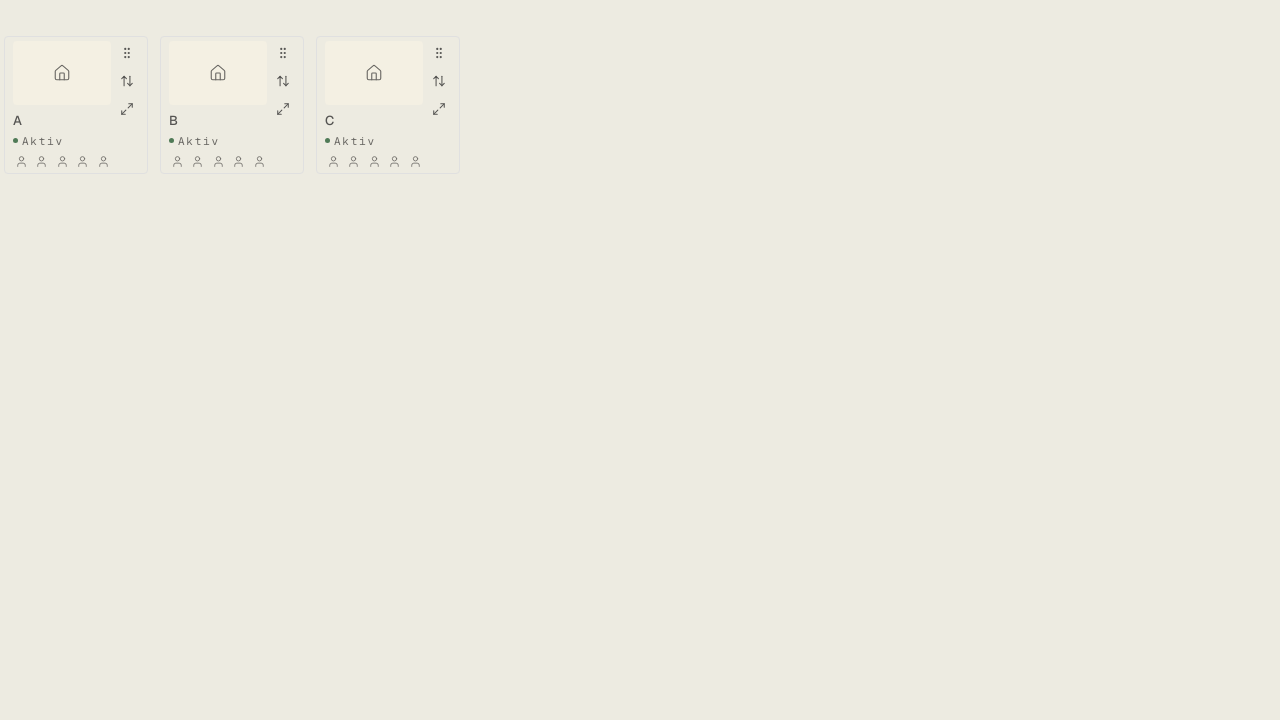
ListingMatrix › keeps the last saved order when a later position save fails
The width and height of the screenshot is (1280, 720).
Click the button named "Position von A ändern": (127, 81) 115,69 -> 139,93
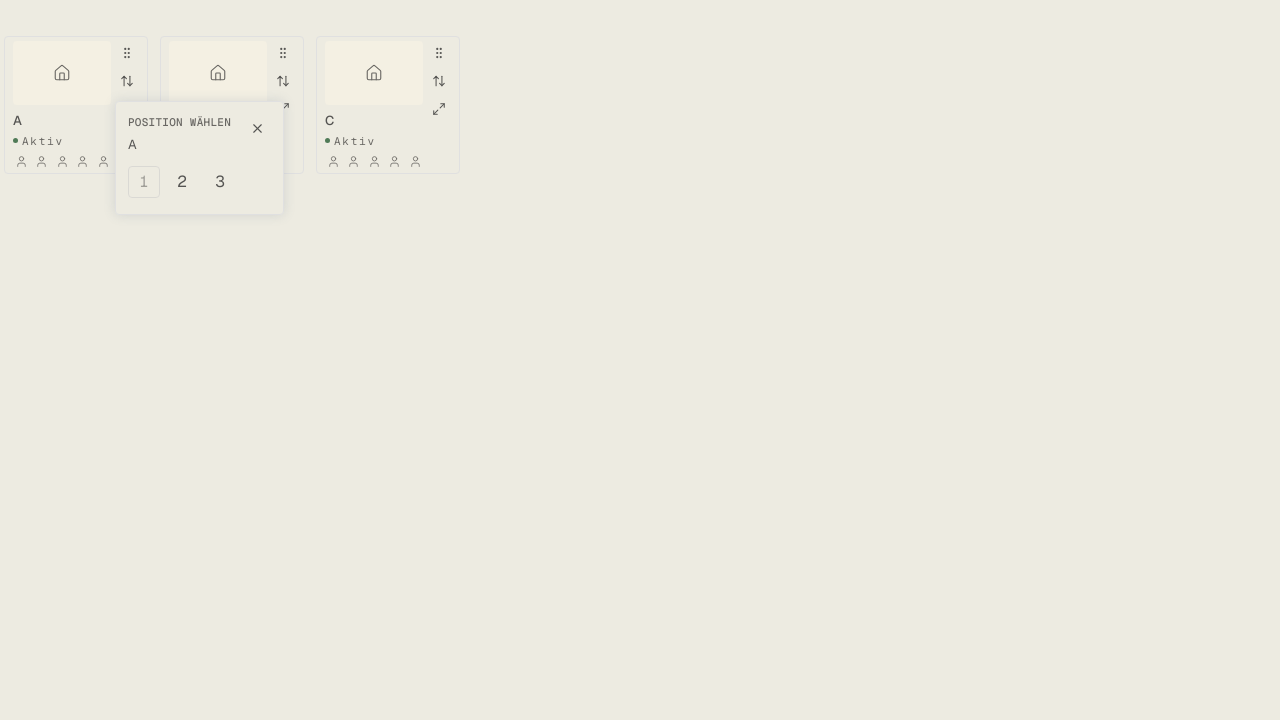
Click the button named "Auf Position 3 verschieben": (220, 182) 204,166 -> 236,198
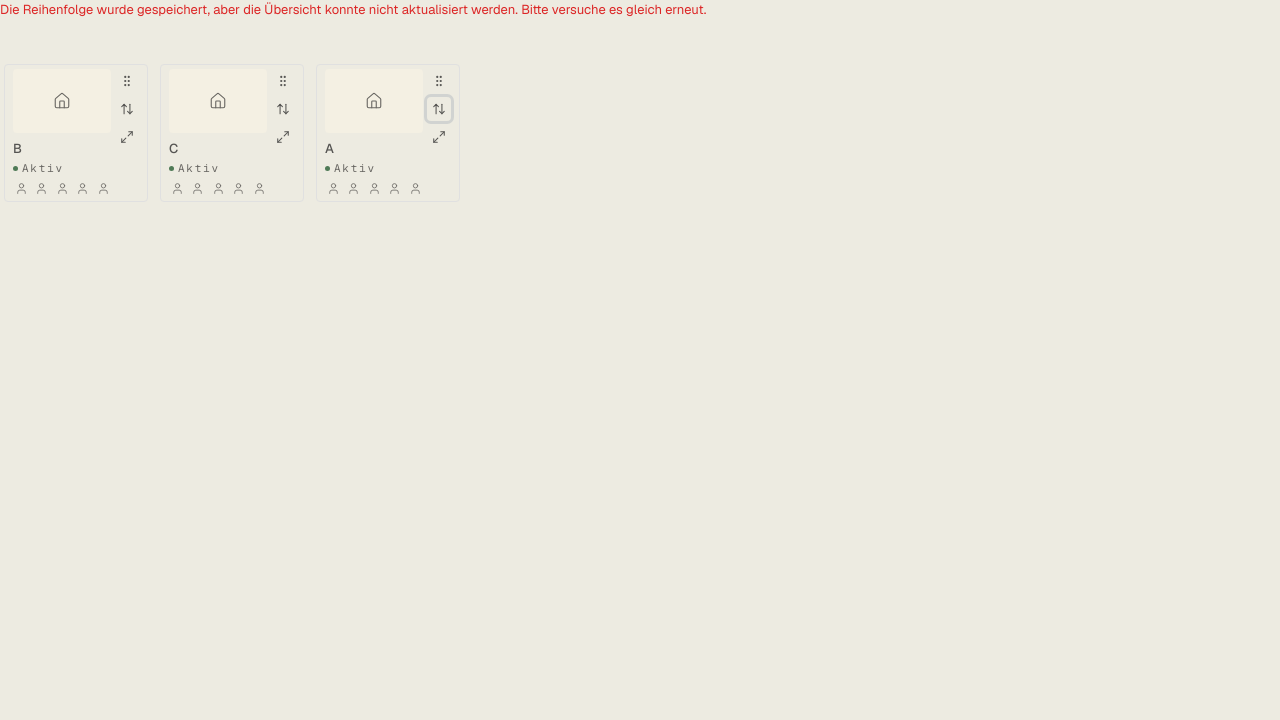
Result: the message shows "die Übersicht konnte nicht aktualisiert werden" at 0,1 -> 706,18
Click the button named "Position von B ändern": (127, 108) 115,96 -> 139,120
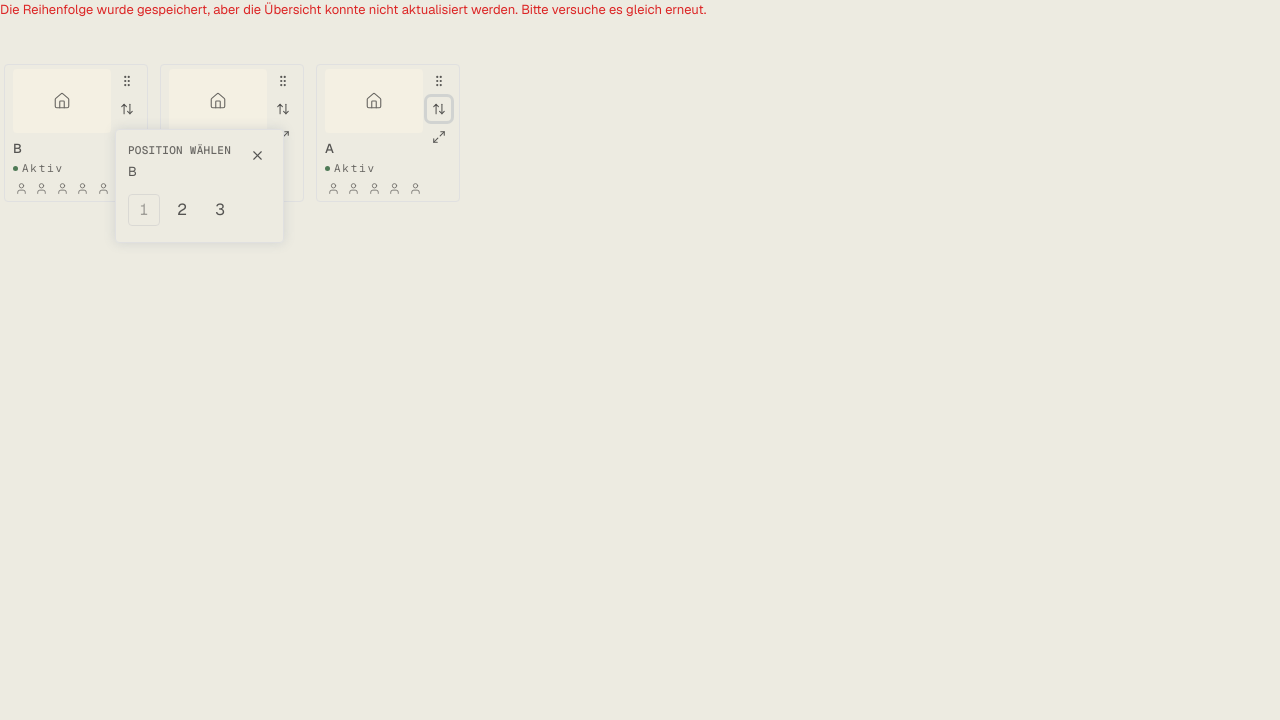
Click the button named "Auf Position 3 verschieben": (220, 210) 204,194 -> 236,226
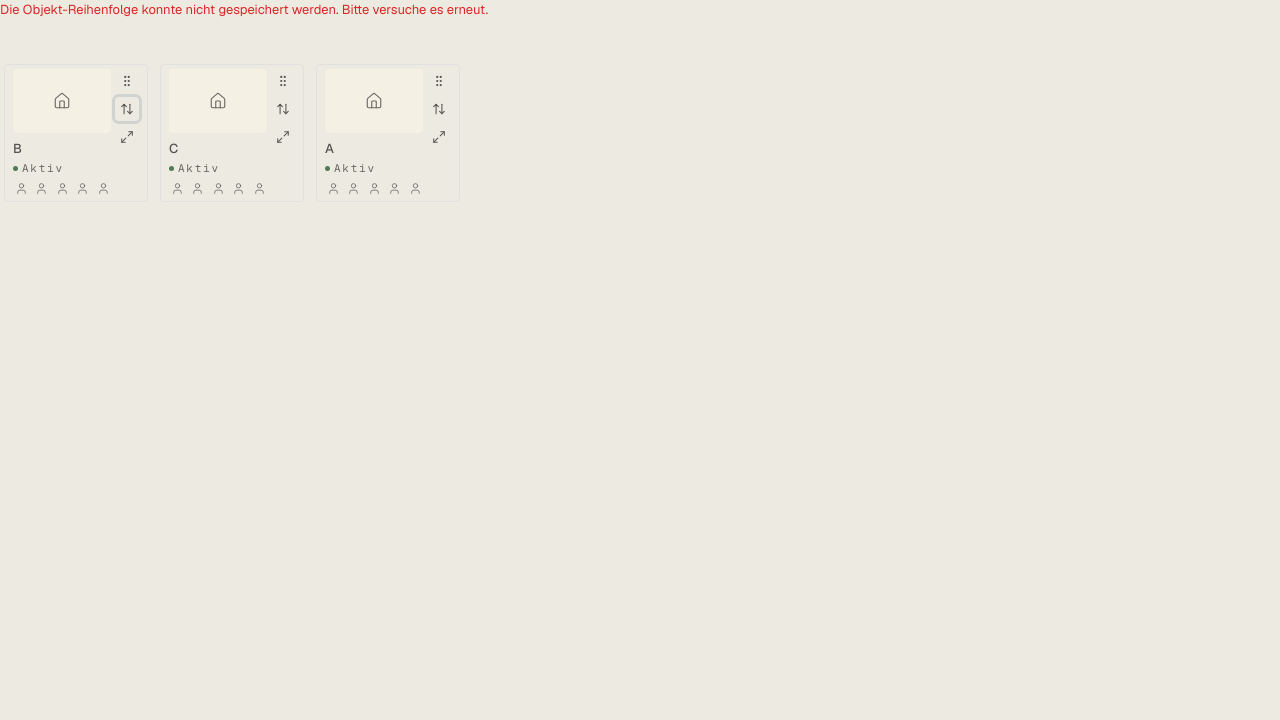
Result: the message shows "konnte nicht gespeichert werden" at 0,1 -> 488,18
